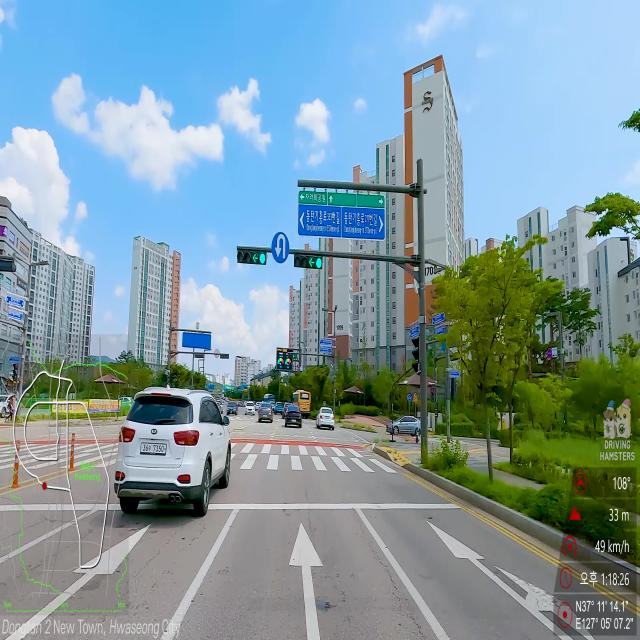Green Light: (258, 252, 266, 264), (316, 258, 322, 268)
